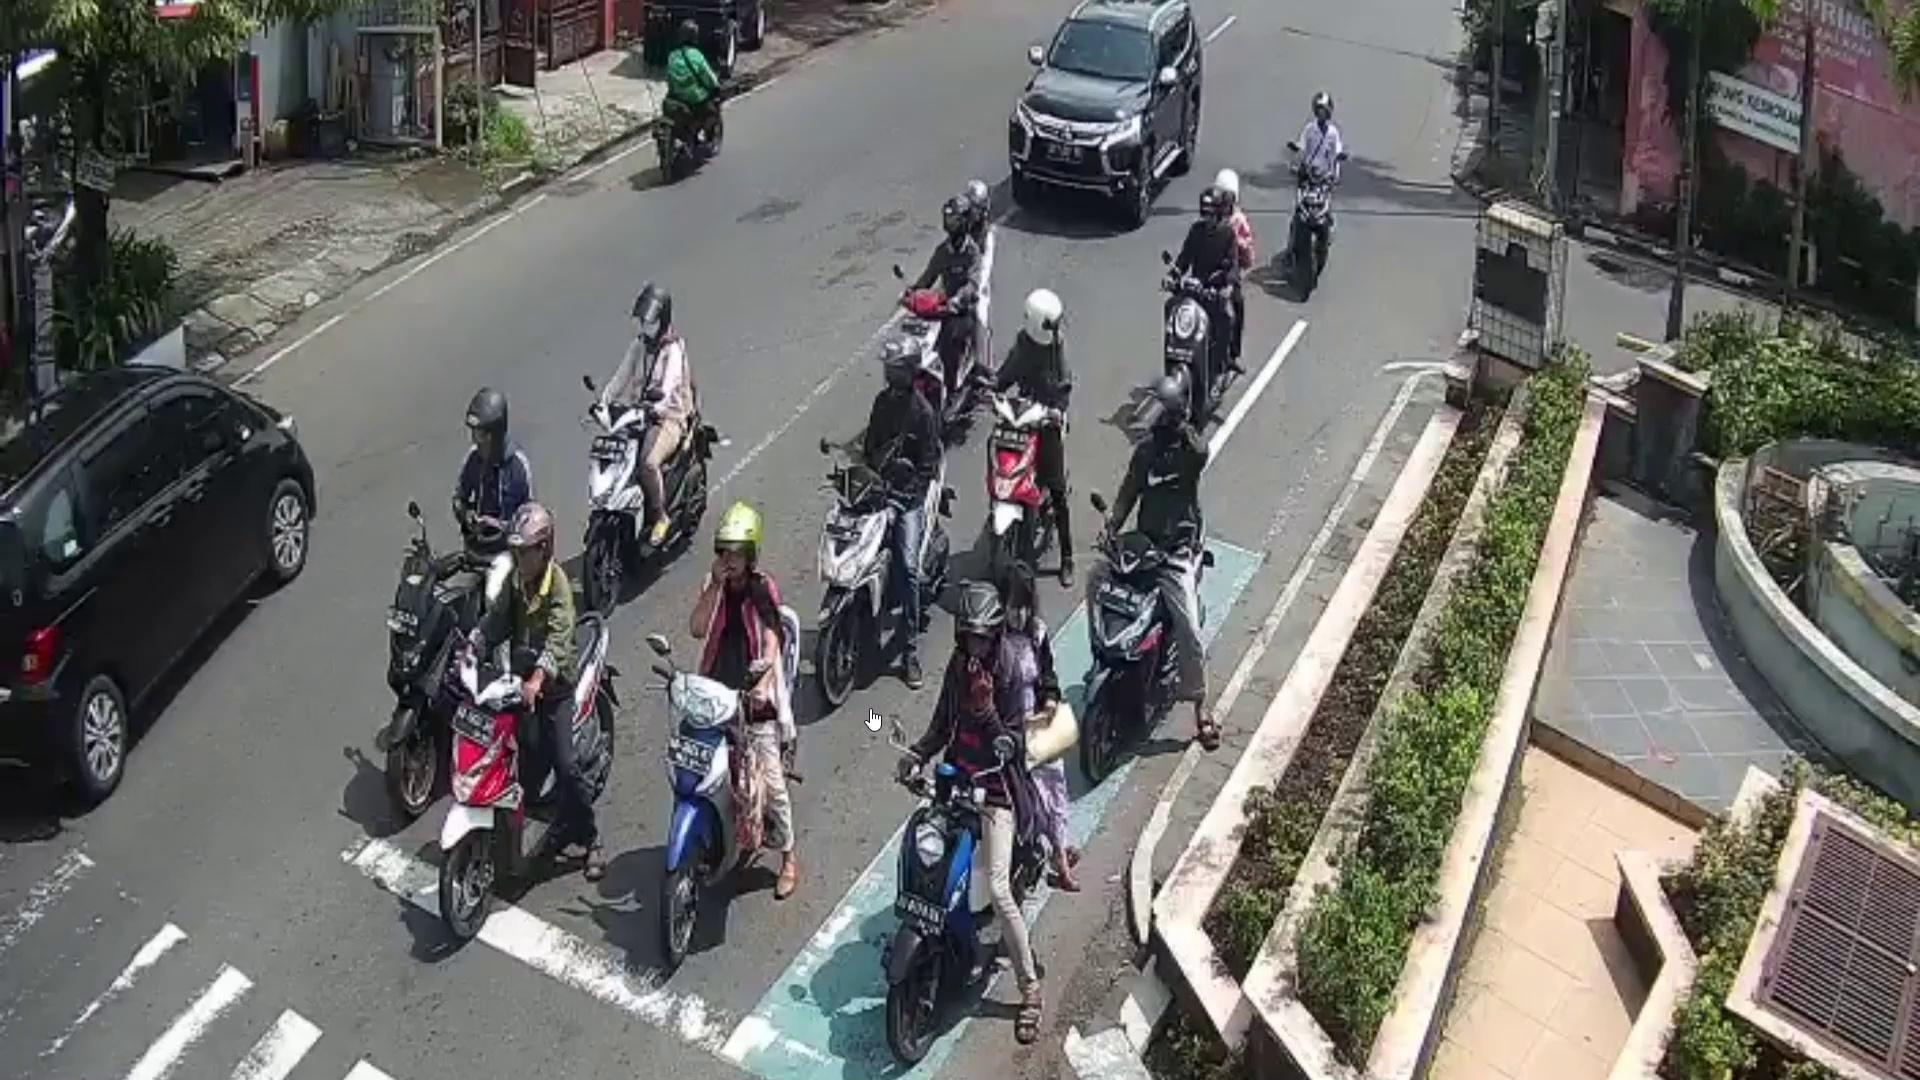car: (0, 364, 315, 807), (1007, 0, 1204, 227)
motorbike: (440, 608, 611, 948), (659, 600, 806, 948), (818, 444, 947, 728), (899, 760, 994, 1065), (382, 542, 484, 822), (580, 381, 700, 601), (1095, 518, 1182, 775), (982, 388, 1055, 596), (893, 284, 992, 430), (654, 67, 720, 182), (1167, 276, 1213, 413), (1292, 162, 1336, 295)
